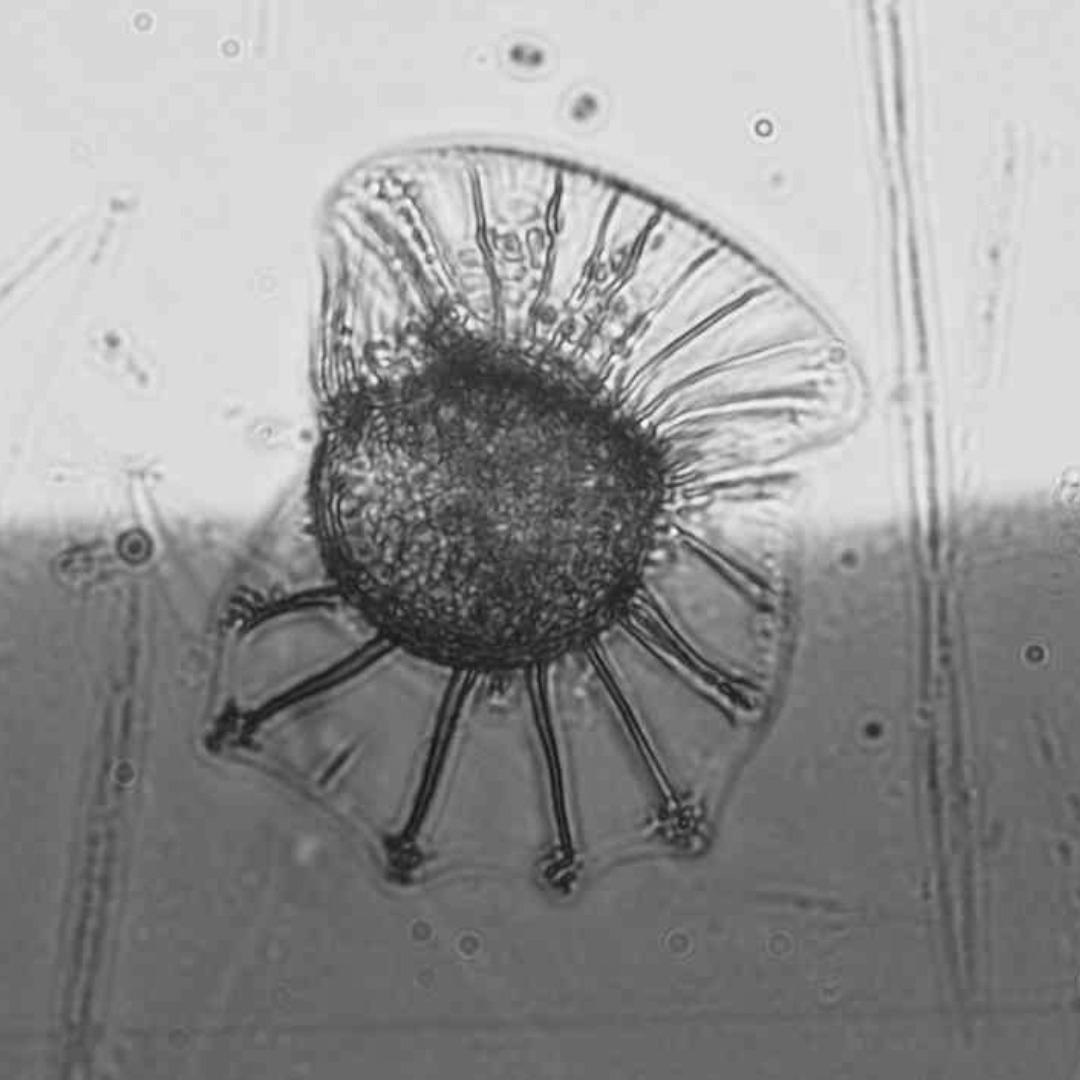ornithocercus_thumii: (197, 145, 869, 902)
